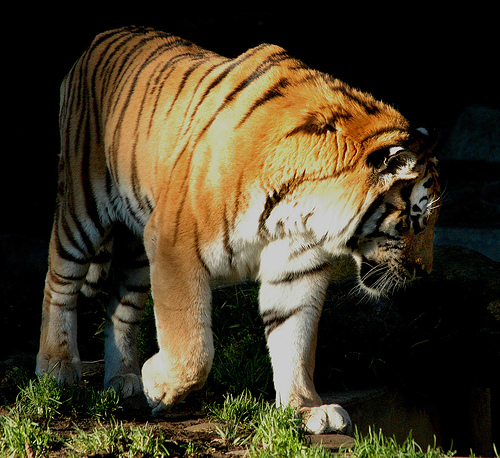Tigre: (53, 16, 449, 407)
